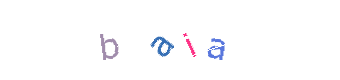A: (130, 0, 210, 80), (149, 0, 229, 80)
B: (96, 0, 176, 80)
I: (147, 0, 227, 80)
